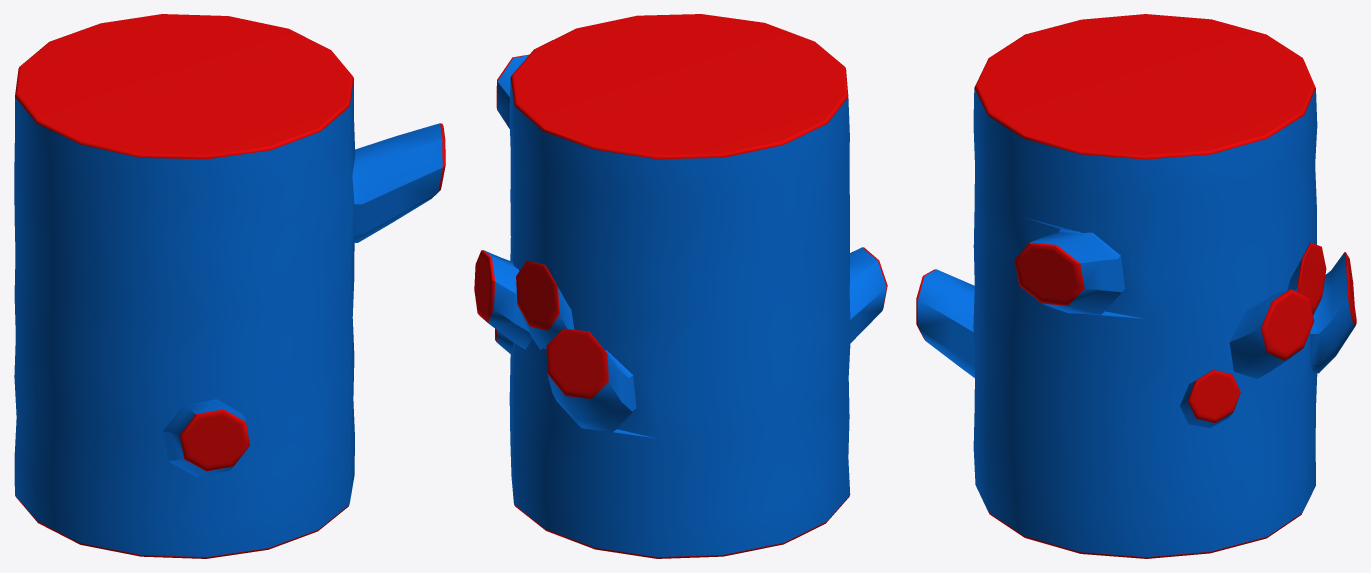
The model's file is log_04.fbx.
The picture shows the model from 3 angles, left to right: view 1: azimuth 30°, elevation 25°; view 2: azimuth 150°, elevation 25°; view 3: azimuth 270°, elevation 25°; orthographic projection.
Visible parts, largest first — view 1: generated_log_03, generated_log_04; view 2: generated_log_03, generated_log_04, generated_log_02; view 3: generated_log_03, generated_log_04, generated_log_01, generated_log_02.
Part boxes in pixels (<box>): generated_log_03: <box>14,14,445,558</box>; generated_log_04: <box>162,399,249,477</box>; generated_log_03: <box>496,14,850,558</box>; generated_log_04: <box>474,247,887,349</box>; generated_log_02: <box>516,260,574,349</box>; generated_log_03: <box>973,14,1356,558</box>; generated_log_04: <box>916,269,1314,378</box>; generated_log_01: <box>1180,369,1240,427</box>; generated_log_02: <box>1287,243,1326,315</box>.
Bounding box in the file's own units: 3.2 × 3.38 × 3.34.
